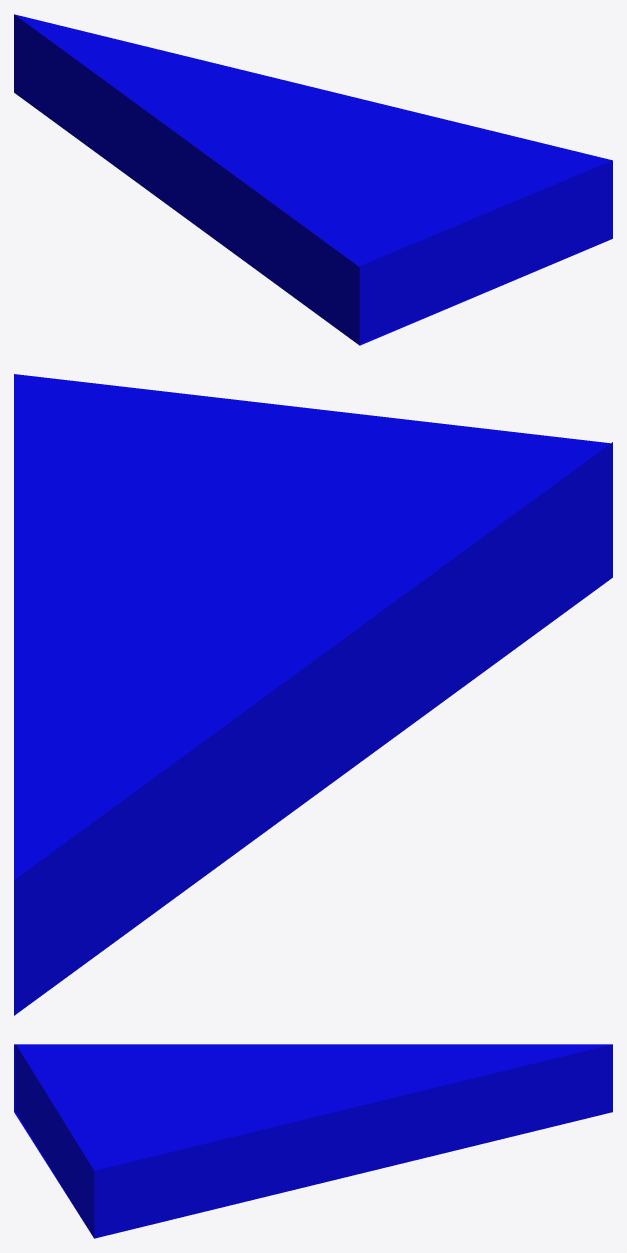
3 renders of one model, top to bottom at view 1: azimuth 30°, elevation 25°; view 2: azimuth 150°, elevation 25°; view 3: azimuth 270°, elevation 25°, orthographic. The views are drawn at different scales.
Visible parts, largest first — view 1: SM_BO_Sapphire_LOD0; view 2: SM_BO_Sapphire_LOD0; view 3: SM_BO_Sapphire_LOD0.
Part boxes in pixels (x1,y1,x2,y2): SM_BO_Sapphire_LOD0: [14, 14, 612, 345]; SM_BO_Sapphire_LOD0: [14, 374, 612, 1015]; SM_BO_Sapphire_LOD0: [14, 1044, 612, 1238].
Size of the model in its own units: 2 by 0.5 by 4.
